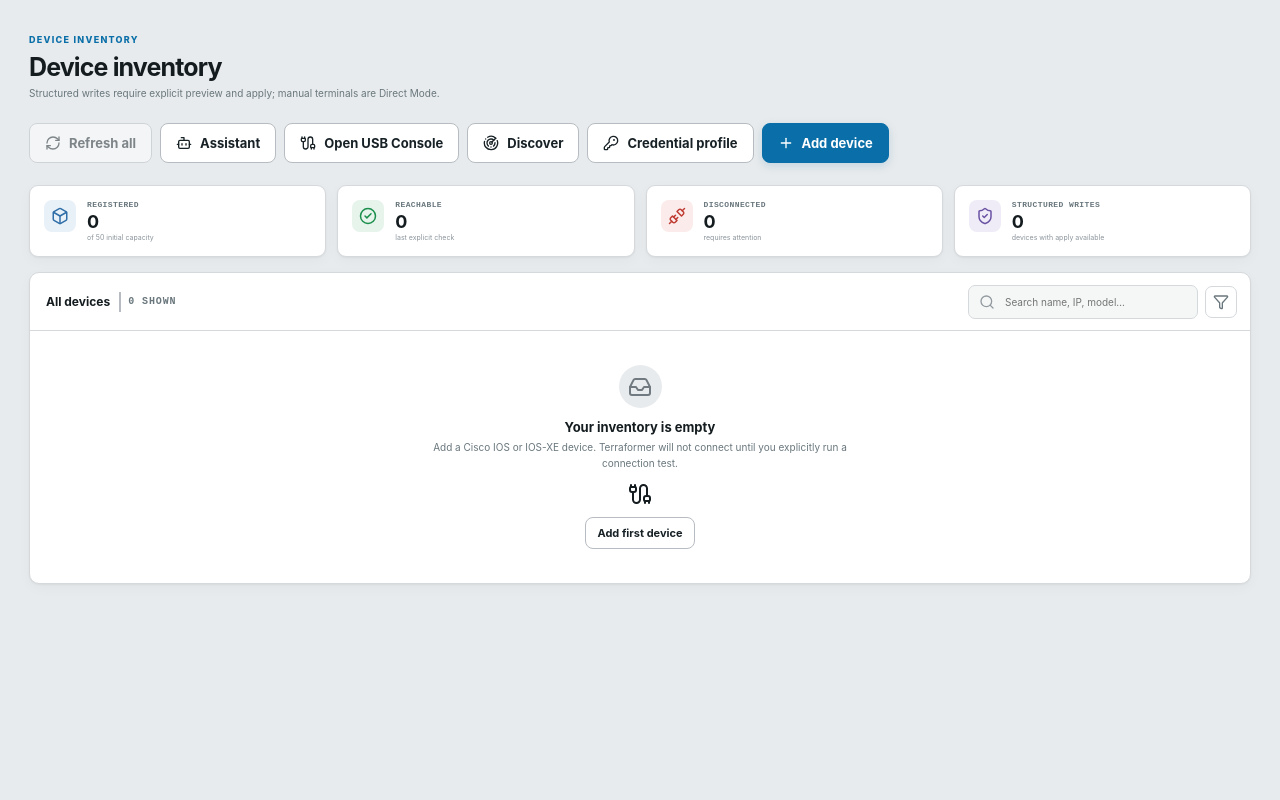
InventoryPage credential profile management › opens a list of saved profiles from the header button
Click the button "Credential profile" at point(670, 143), box 588,123 -> 754,163
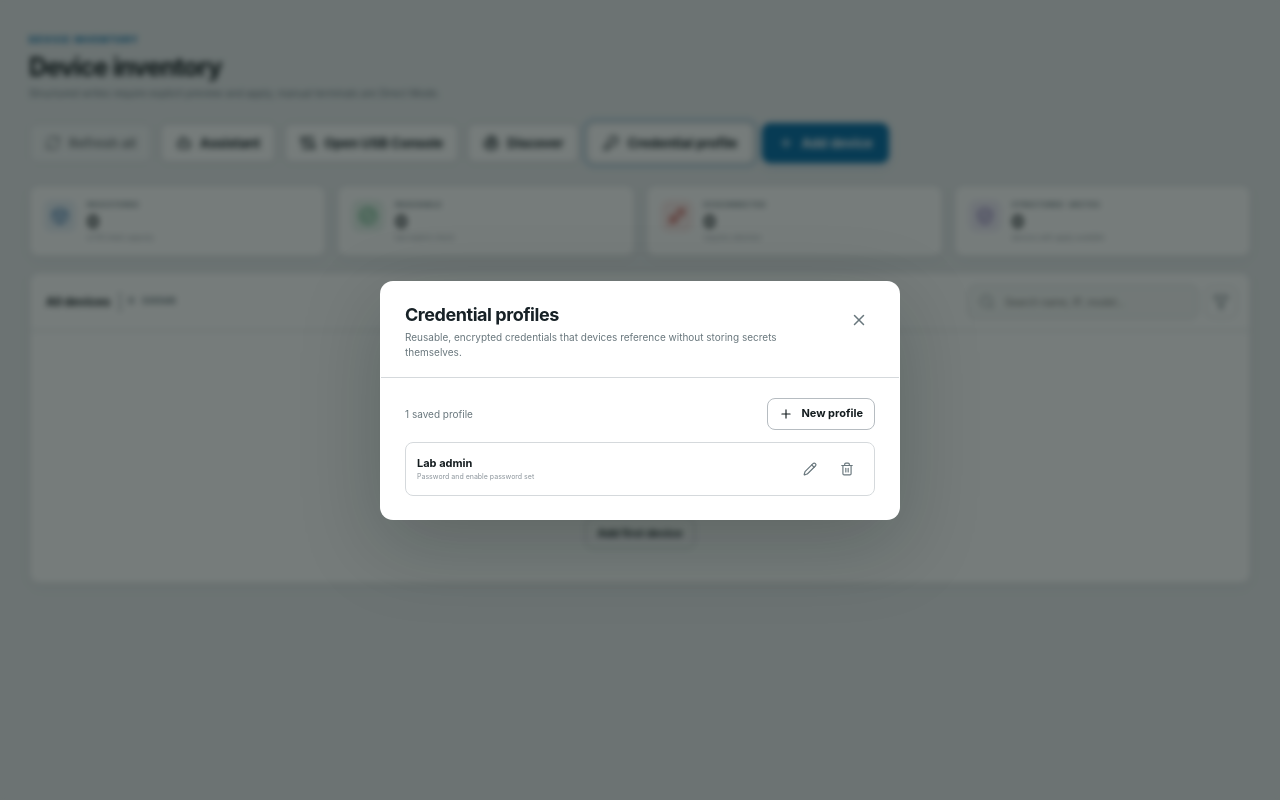
Now the text "Lab admin" is shown, box 417,456 -> 472,470
